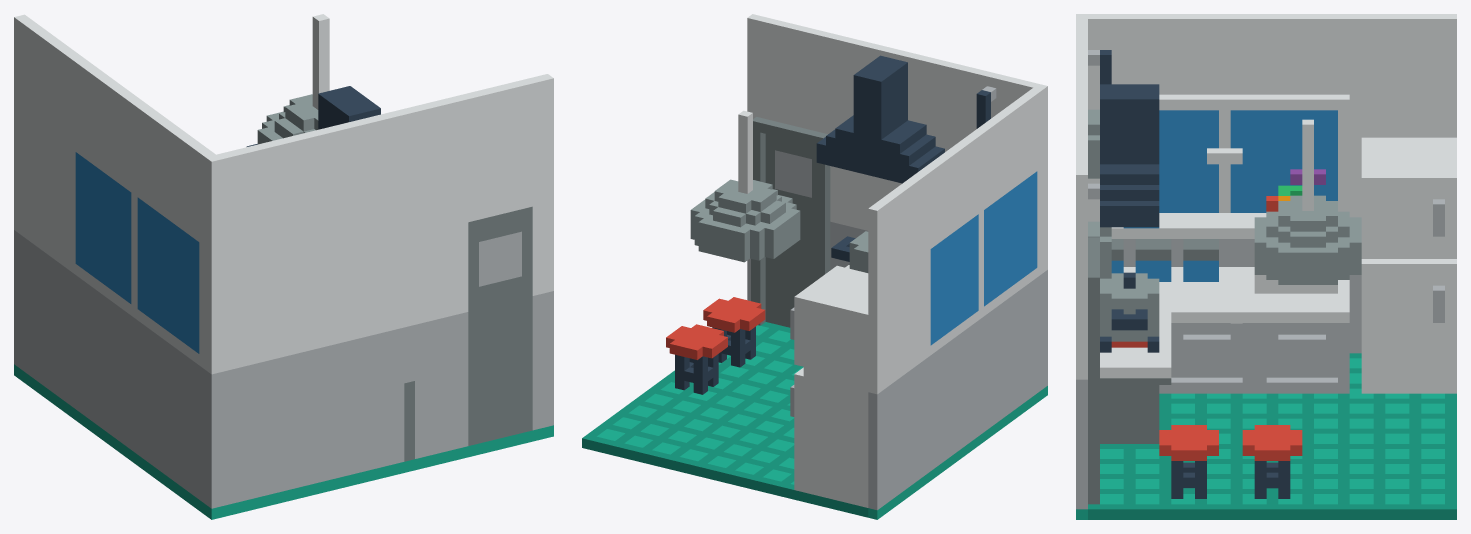
Rendered from Ketchin.obj.
The picture shows the model from 3 angles, left to right: view 1: azimuth 30°, elevation 25°; view 2: azimuth 150°, elevation 25°; view 3: azimuth 270°, elevation 25°; orthographic projection. The views are drawn at different scales.
Visible parts, largest first — view 1: Ketchin; view 2: Ketchin; view 3: Ketchin.
Part boxes in pixels (box(x1,y1,x2,y2)): Ketchin: box(14, 14, 553, 519); Ketchin: box(582, 14, 1047, 519); Ketchin: box(1076, 14, 1456, 519).
Size of the model in its own units: 32 by 32 by 32.
